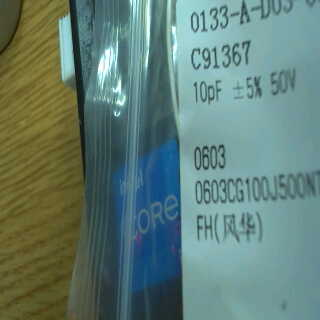10pF: (190, 78, 225, 115)
